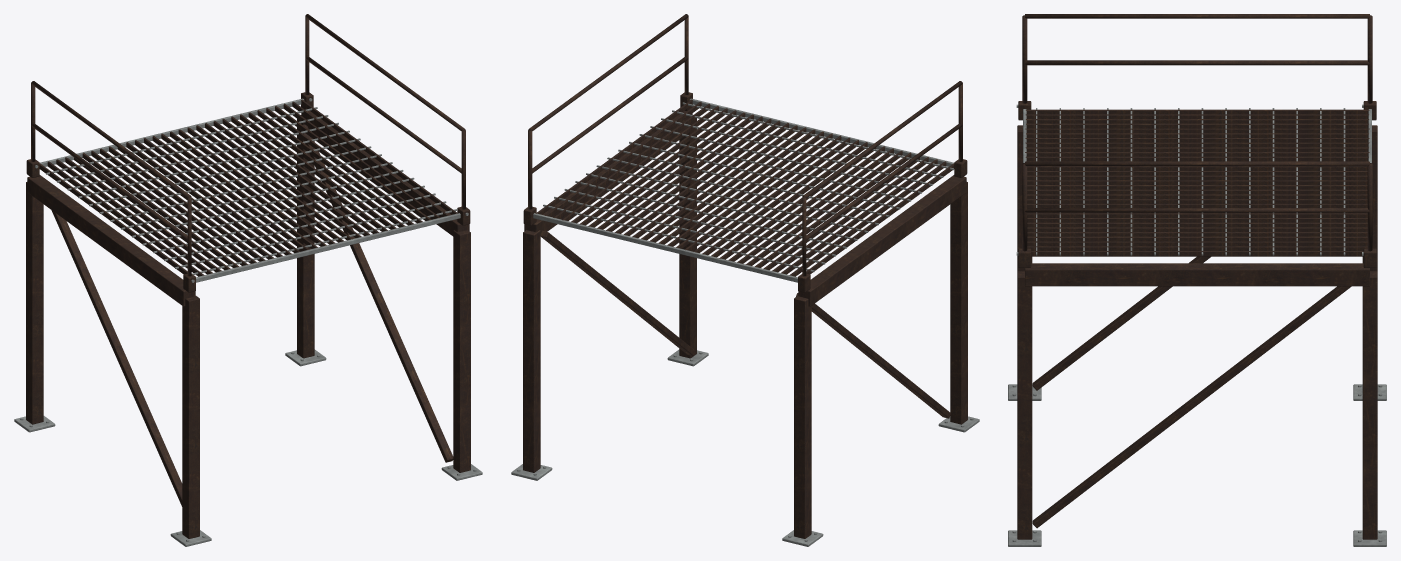
File: f3_v3_catwalk_junction.glb
The picture shows the model from 3 angles, left to right: view 1: azimuth 30°, elevation 25°; view 2: azimuth 150°, elevation 25°; view 3: azimuth 270°, elevation 25°; orthographic projection. The views are drawn at different scales.
Parts seen in each view (by area): view 1: f3_oxidized_iron_surface, f3_bare_worn_steel_surface; view 2: f3_oxidized_iron_surface, f3_bare_worn_steel_surface; view 3: f3_oxidized_iron_surface, f3_bare_worn_steel_surface.
Boxes of the visible parts, x1,y1,x2,y2 form: f3_oxidized_iron_surface: (26, 14, 470, 538); f3_bare_worn_steel_surface: (14, 98, 482, 546); f3_oxidized_iron_surface: (523, 14, 967, 538); f3_bare_worn_steel_surface: (511, 98, 979, 546); f3_oxidized_iron_surface: (1017, 14, 1377, 539); f3_bare_worn_steel_surface: (1008, 104, 1386, 546).
Bounding box in the file's own units: 3.84 × 4.24 × 3.84.
2 materials, 2 textured.
